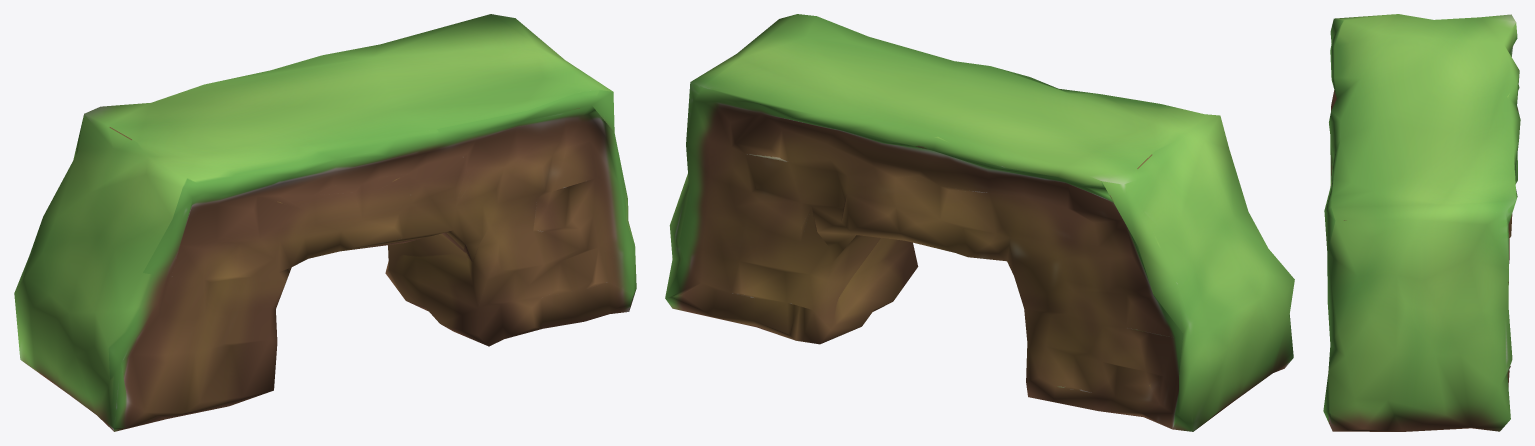
File: spawn slide1.fbx
The picture shows the model from 3 angles, left to right: view 1: azimuth 30°, elevation 25°; view 2: azimuth 150°, elevation 25°; view 3: azimuth 270°, elevation 25°; orthographic projection. The views are drawn at different scales.
Visible parts, largest first — view 1: slide LP; view 2: slide LP; view 3: slide LP.
Part boxes in pixels (x1,y1,x2,y2): slide LP: [14, 14, 636, 431]; slide LP: [665, 14, 1294, 431]; slide LP: [1323, 14, 1520, 431].
Bounding box in the file's own units: 1089 × 465 × 375.
Materials: 1 (1 with a texture image).
